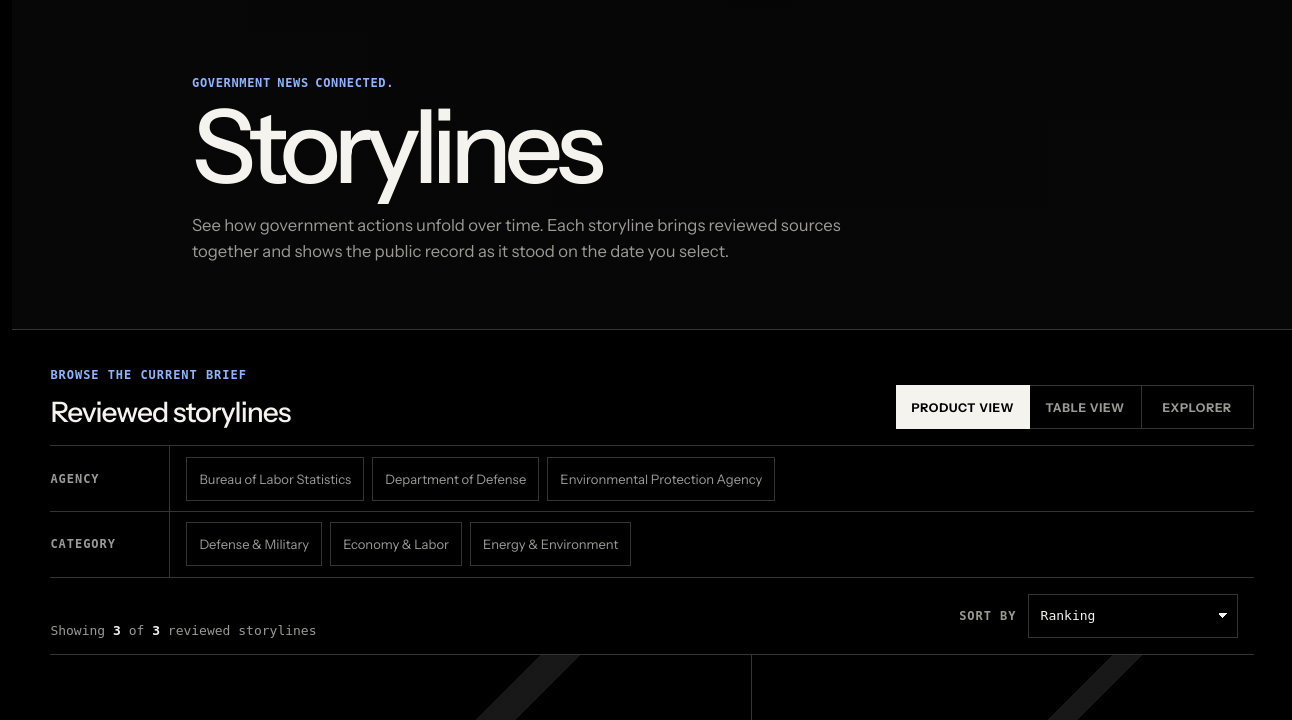
Test case: storyline rendering window › filters storylines by a single selected facet
Click the button "Bureau of Labor Statistics": (275,479) [186,457,364,501]
(page scrolled)
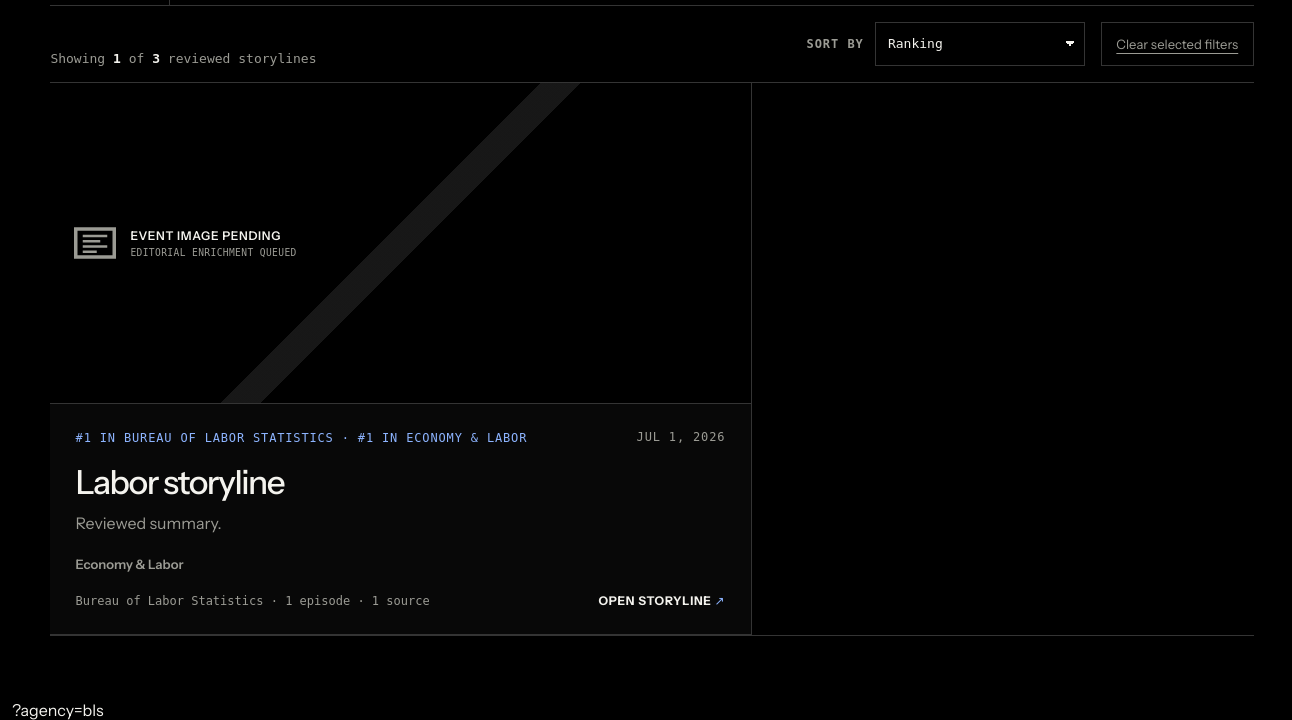
Expected: the heading "Labor storyline" is shown, [76,461,284,501]
Expected: the text with test id "search" reads "?agency=bls", [12,700,104,719]
